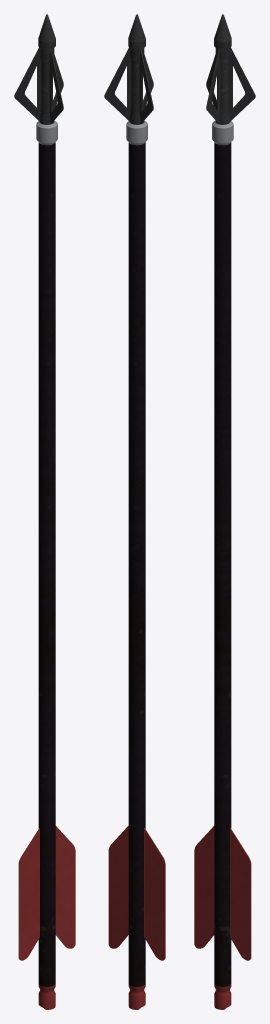
The model's file is arrowNew.obj.
3 renders of one model, left to right at view 1: azimuth 30°, elevation 25°; view 2: azimuth 150°, elevation 25°; view 3: azimuth 330°, elevation 25°, orthographic.
Visible parts, largest first — view 1: Arrow; view 2: Arrow; view 3: Arrow.
Boxes of the visible parts, left/top/right/bottom form: Arrow: left=14, top=14, right=75, bottom=1009; Arrow: left=104, top=14, right=165, bottom=1009; Arrow: left=194, top=14, right=255, bottom=1009.
Size of the model in its own units: 0.0422 by 0.7041 by 0.0319.
